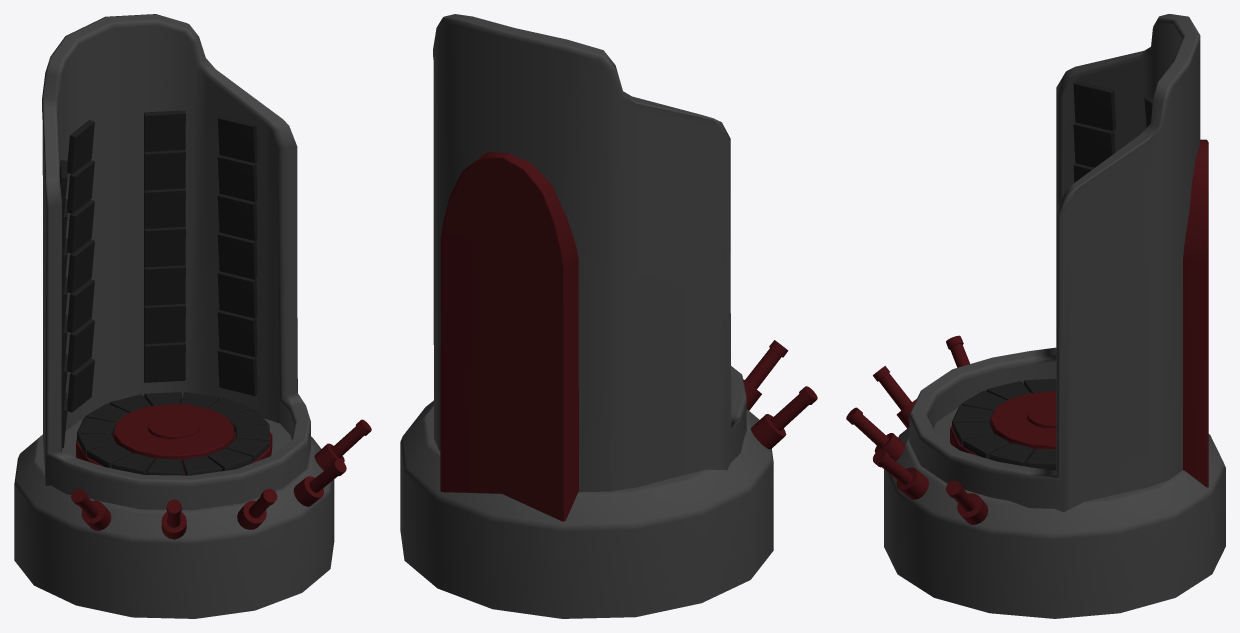
Rendered from colony_Solar_generator.glb.
3 views of the same model, side by side, from view 1: azimuth 30°, elevation 25°; view 2: azimuth 150°, elevation 25°; view 3: azimuth 270°, elevation 25° (orthographic). The views are drawn at different scales.
Parts seen in each view (by area): view 1: Solar_generator; view 2: Solar_generator; view 3: Solar_generator.
Boxes of the visible parts, box(x1,y1,x2,y2) form: Solar_generator: box(14, 14, 371, 618); Solar_generator: box(400, 14, 817, 618); Solar_generator: box(846, 14, 1225, 618).
Size of the model in its own units: 284 by 440 by 296.
1 material, 1 textured.
